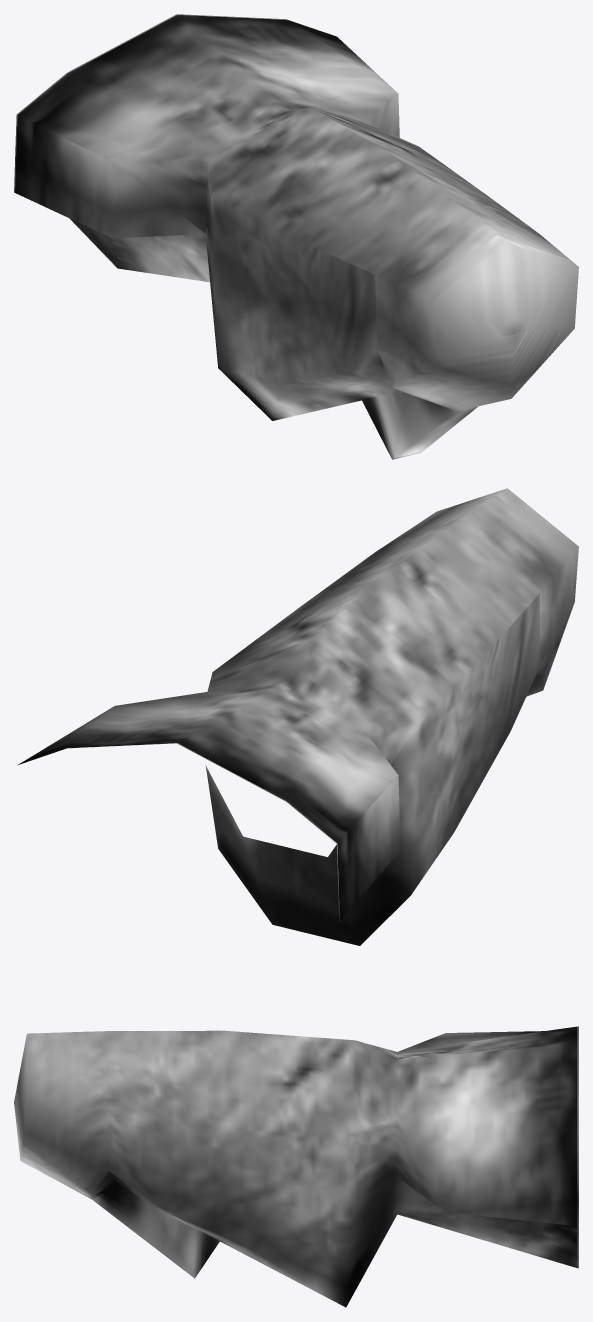
File: StoneStatue02.glb
The picture shows the model from 3 angles, top to bottom: view 1: azimuth 30°, elevation 25°; view 2: azimuth 150°, elevation 25°; view 3: azimuth 270°, elevation 25°; orthographic projection. The views are drawn at different scales.
Parts seen in each view (by area): view 1: model_StoneStatue02; view 2: model_StoneStatue02; view 3: model_StoneStatue02.
Part boxes in pixels (left/top/right/bottom): model_StoneStatue02: left=14, top=14, right=578, bottom=459; model_StoneStatue02: left=17, top=488, right=578, bottom=945; model_StoneStatue02: left=14, top=1026, right=578, bottom=1307.
Size of the model in its own units: 2.69 by 2.46 by 4.85.
1 material, 1 textured.
